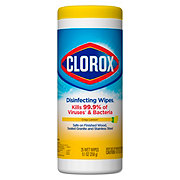Wipes: (53, 3, 127, 176)
